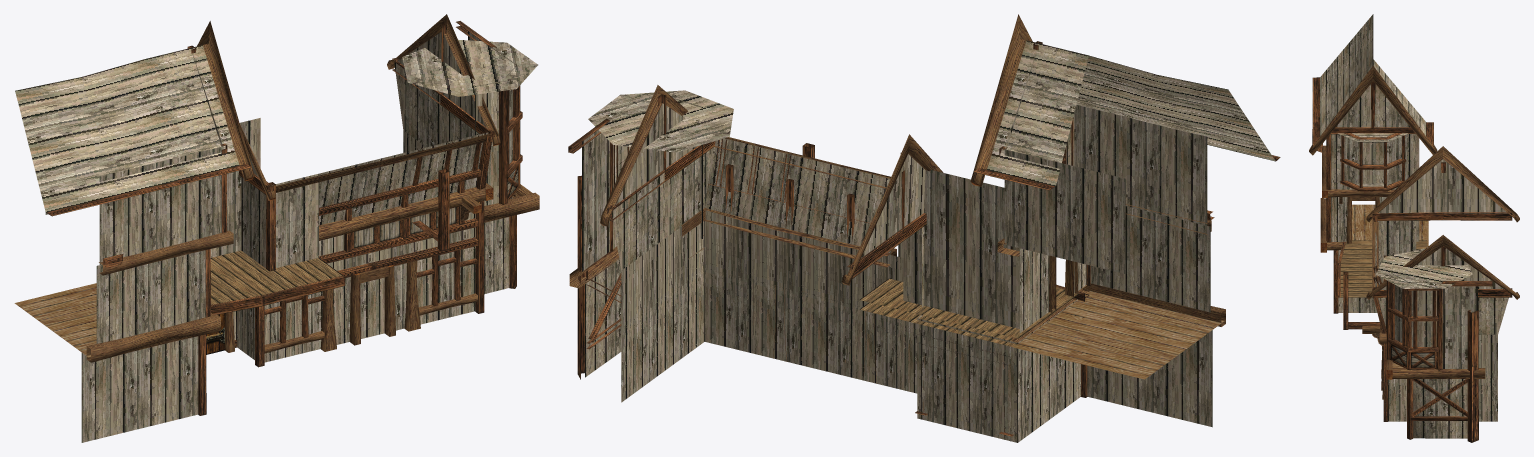
File: LAKETOWN_EXTERIOR_PS_LT_BACKHOUSE84746__GX.fbx
The picture shows the model from 3 angles, left to right: view 1: azimuth 30°, elevation 25°; view 2: azimuth 150°, elevation 25°; view 3: azimuth 270°, elevation 25°; orthographic projection. The views are drawn at different scales.
Parts seen in each view (by area): view 1: LAKETOWN_EXTERIOR_PS_LT_BACKHOUSE84746__GX; view 2: LAKETOWN_EXTERIOR_PS_LT_BACKHOUSE84746__GX; view 3: LAKETOWN_EXTERIOR_PS_LT_BACKHOUSE84746__GX.
Boxes of the visible parts, bbox=[...] form: LAKETOWN_EXTERIOR_PS_LT_BACKHOUSE84746__GX: bbox=[14, 14, 539, 442]; LAKETOWN_EXTERIOR_PS_LT_BACKHOUSE84746__GX: bbox=[568, 14, 1280, 442]; LAKETOWN_EXTERIOR_PS_LT_BACKHOUSE84746__GX: bbox=[1309, 14, 1519, 442].
Bounding box in the file's own units: 220759 × 140379 × 103161.
Materials: 11 (11 with a texture image).
